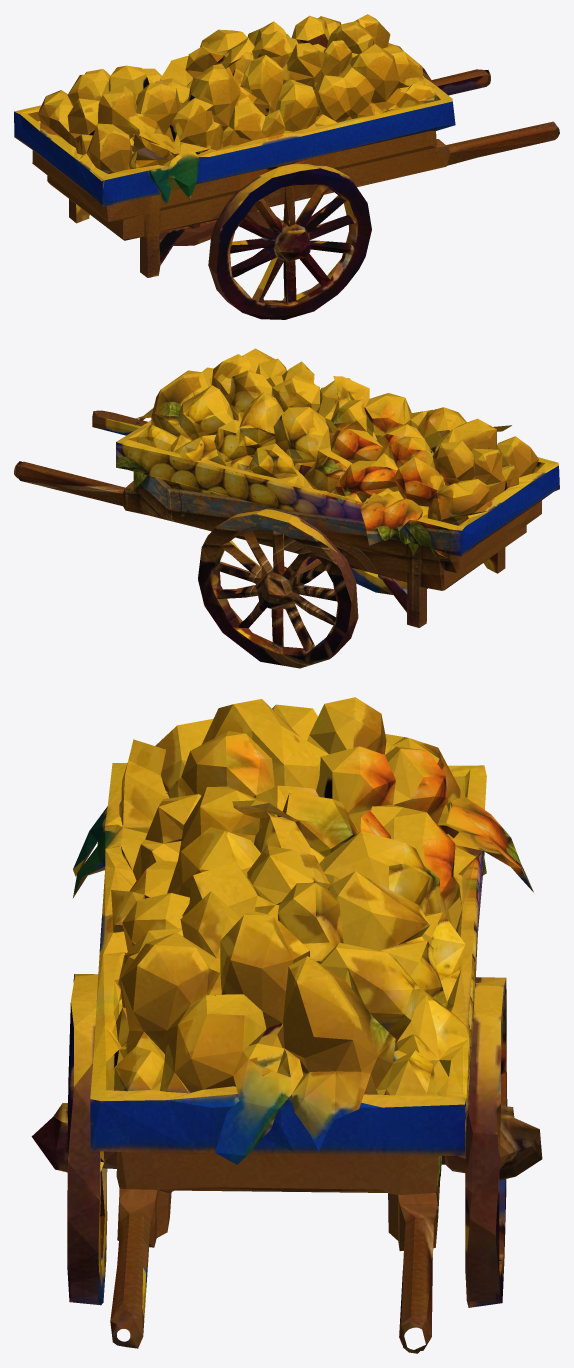
File: cart.glb
3 views of the same model, one above another, from view 1: azimuth 30°, elevation 25°; view 2: azimuth 150°, elevation 25°; view 3: azimuth 270°, elevation 25° (orthographic). The views are drawn at different scales.
Visible parts, largest first — view 1: cart; view 2: cart; view 3: cart.
Part boxes in pixels (x1,y1,x2,y2): cart: [14, 14, 559, 319]; cart: [14, 348, 559, 668]; cart: [31, 697, 542, 1353].
Size of the model in its own units: 2.3 by 1.16 by 1.1.
1 material, 1 textured.
